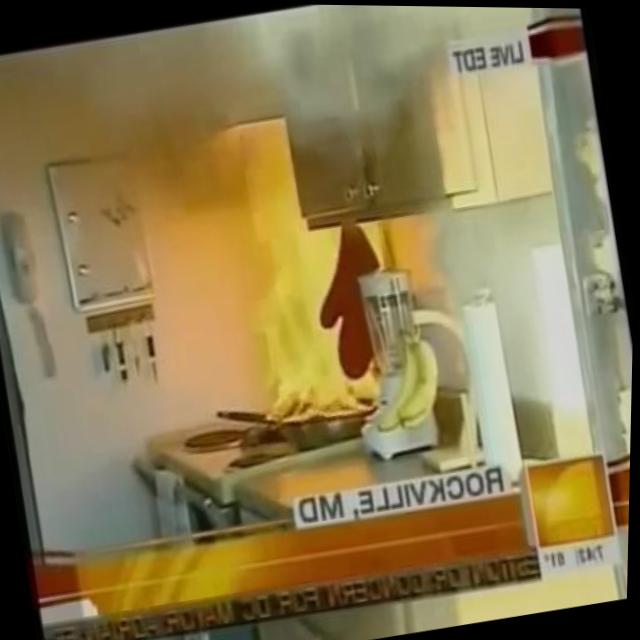fire: (237, 206, 374, 430)
